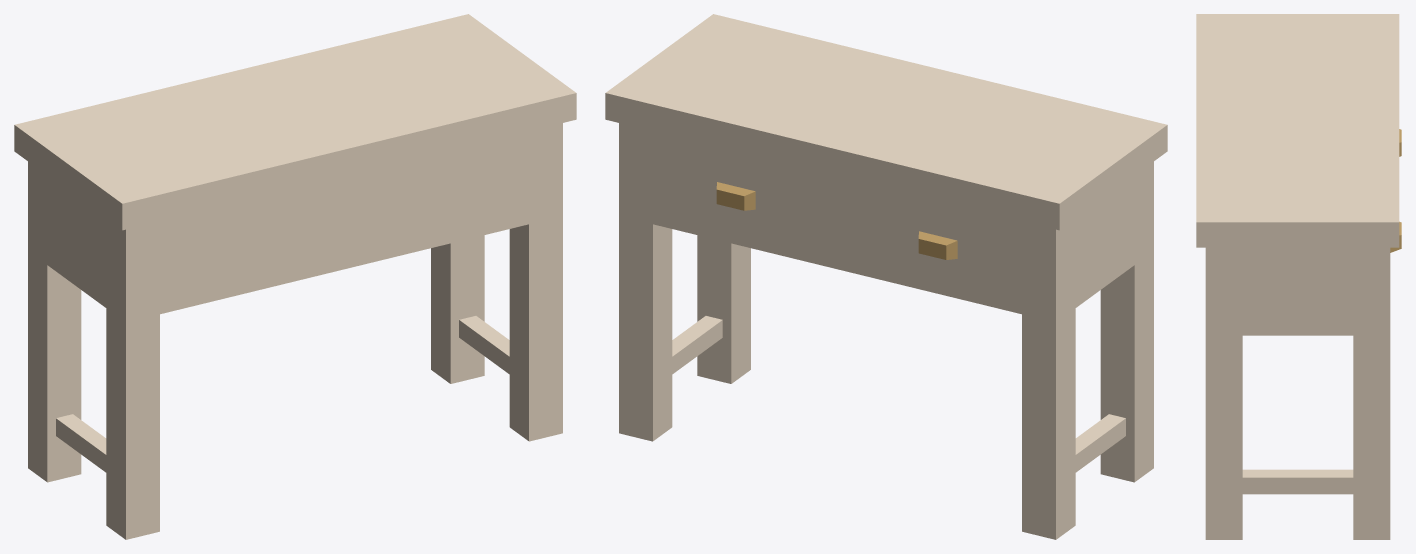
File: furn_drawertable.glb
3 renders of one model, left to right at view 1: azimuth 30°, elevation 25°; view 2: azimuth 150°, elevation 25°; view 3: azimuth 270°, elevation 25°, orthographic. The views are drawn at different scales.
Parts seen in each view (by area): view 1: drawertable; view 2: drawertable; view 3: drawertable.
Part boxes in pixels (x1=…): drawertable: x1=14, y1=14, x2=576, y2=539; drawertable: x1=605, y1=14, x2=1167, y2=539; drawertable: x1=1196, y1=14, x2=1401, y2=539.
Size of the model in its own units: 0.9733 by 0.7 by 0.4048.
